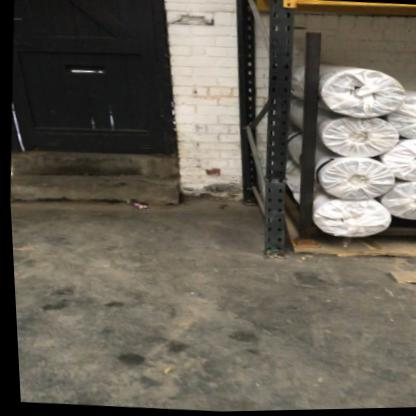vertical_damage: (257, 126, 298, 203)
